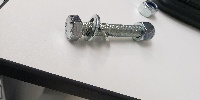FinishedAssembly: (62, 14, 157, 48)
Nut: (133, 1, 159, 18)
